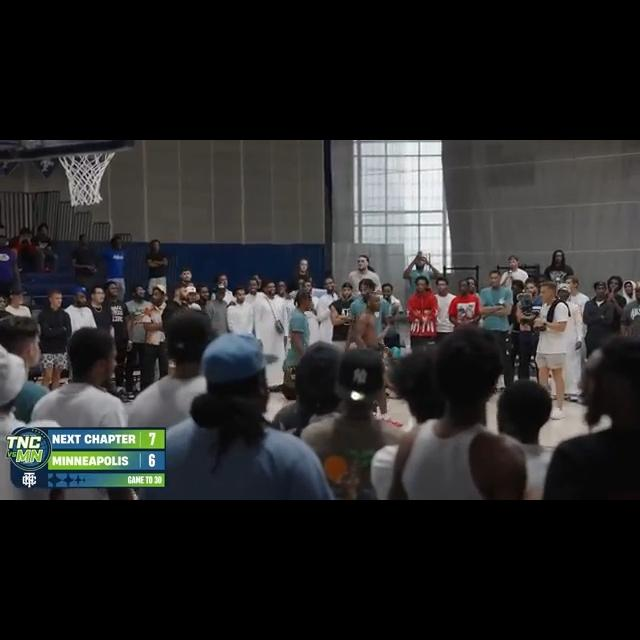hoop: (58, 152, 117, 205)
